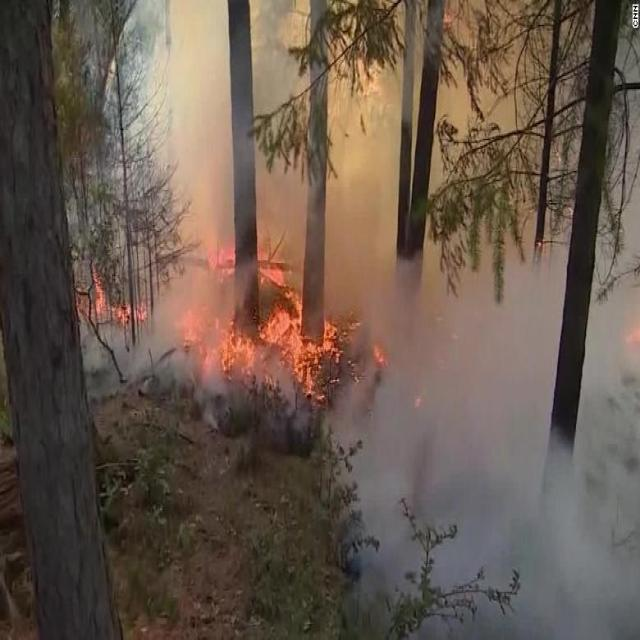Fire: (257, 282, 347, 408), (178, 306, 262, 378), (256, 248, 288, 290), (208, 242, 238, 274)
Smoke: (338, 230, 639, 640), (58, 0, 283, 426)
